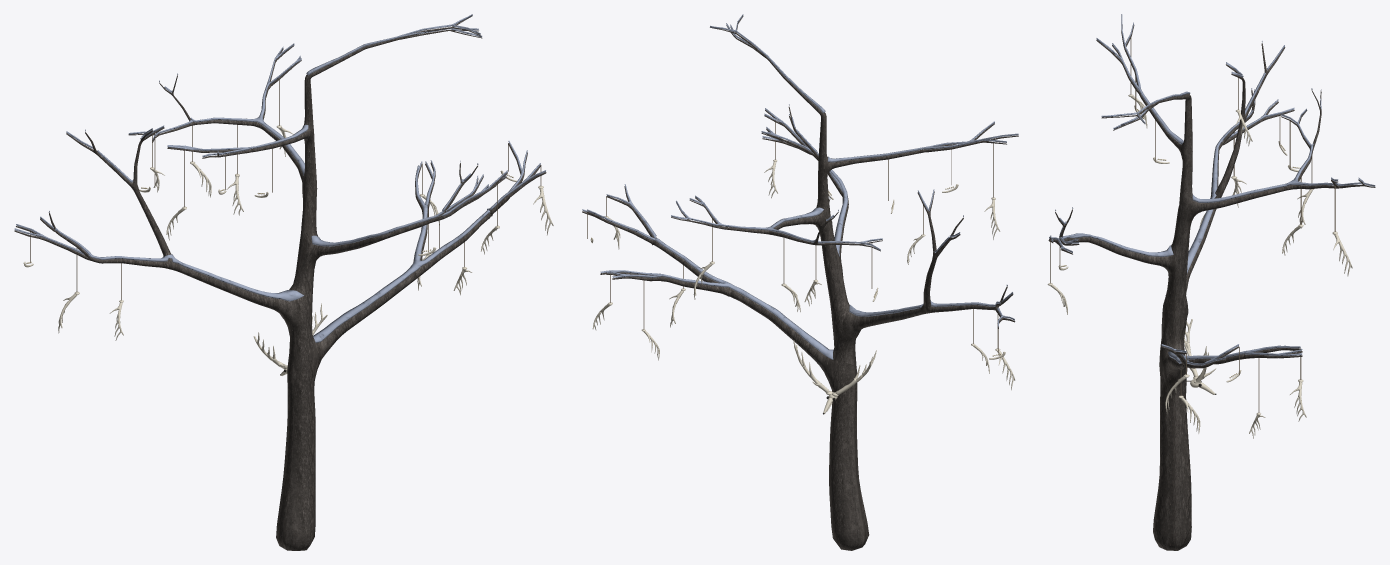
The model's file is antler_tree.glb.
3 renders of one model, left to right at view 1: azimuth 30°, elevation 25°; view 2: azimuth 150°, elevation 25°; view 3: azimuth 270°, elevation 25°, orthographic. The views are drawn at different scales.
Visible parts, largest first — view 1: AntlerTree; view 2: AntlerTree; view 3: AntlerTree.
Boxes of the visible parts, x1,y1,x2,y2 form: AntlerTree: [14, 14, 553, 550]; AntlerTree: [582, 14, 1018, 550]; AntlerTree: [1047, 14, 1375, 550].
Bounding box in the file's own units: 8.64 × 8.58 × 5.05.
Materials: 7 (2 with a texture image).
